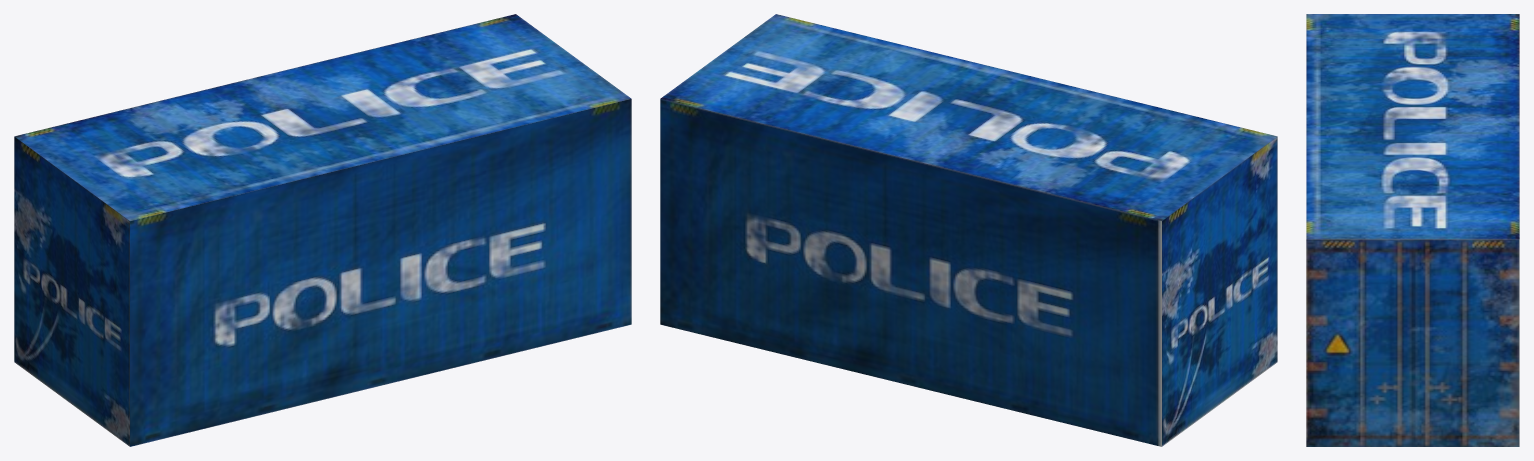
Rendered from container-13.glb.
The picture shows the model from 3 angles, left to right: view 1: azimuth 30°, elevation 25°; view 2: azimuth 150°, elevation 25°; view 3: azimuth 270°, elevation 25°; orthographic projection. The views are drawn at different scales.
Visible parts, largest first — view 1: container-13; view 2: container-13; view 3: container-13.
Part boxes in pixels (x1,y1,x2,y2): container-13: [14, 14, 631, 446]; container-13: [660, 14, 1277, 446]; container-13: [1306, 14, 1519, 446].
Size of the model in its own units: 6.1 by 2.62 by 2.44.
Materials: 1 (1 with a texture image).
